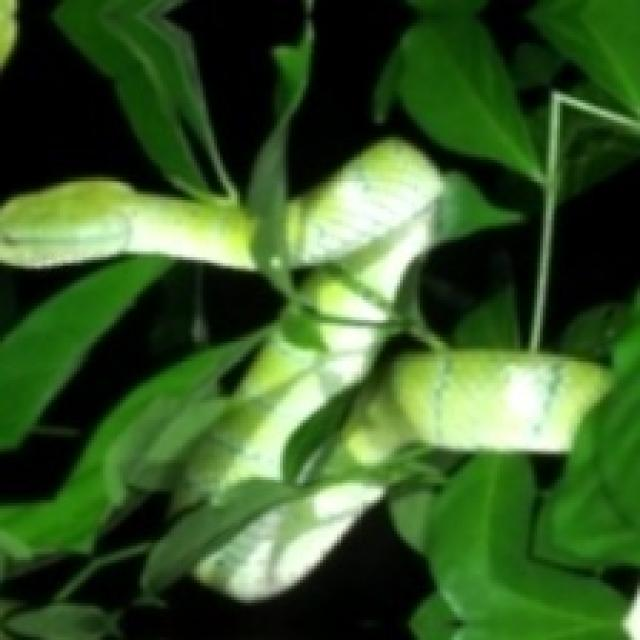north ph temple pitviper: (0, 177, 254, 269), (286, 140, 440, 266)
